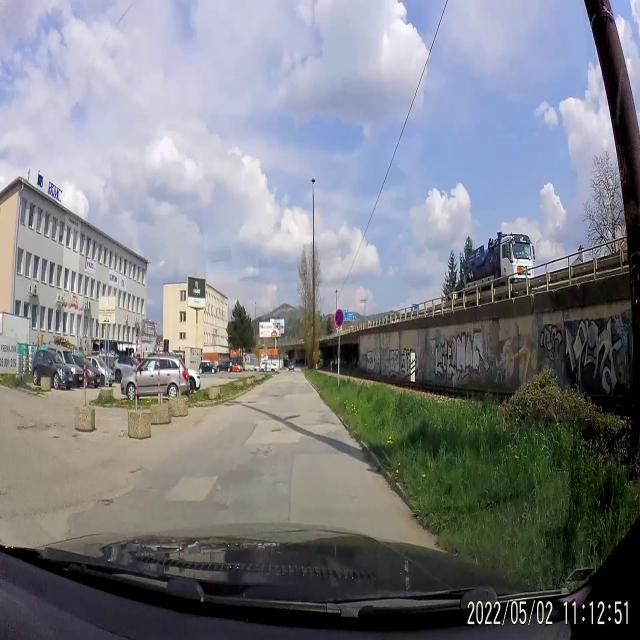Pothole: (96, 489, 118, 517), (15, 418, 54, 433), (249, 442, 275, 460), (128, 462, 146, 486)
